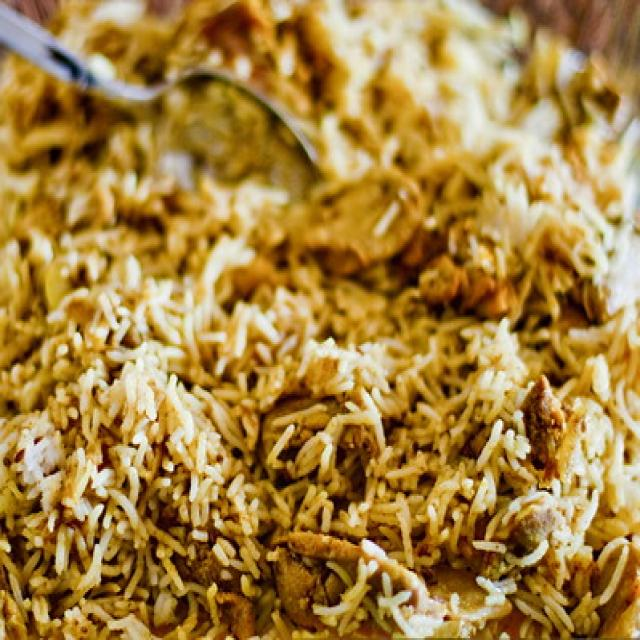Biryani: (0, 23, 639, 640)
